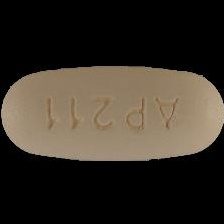63187-369: (0, 0, 224, 224)
